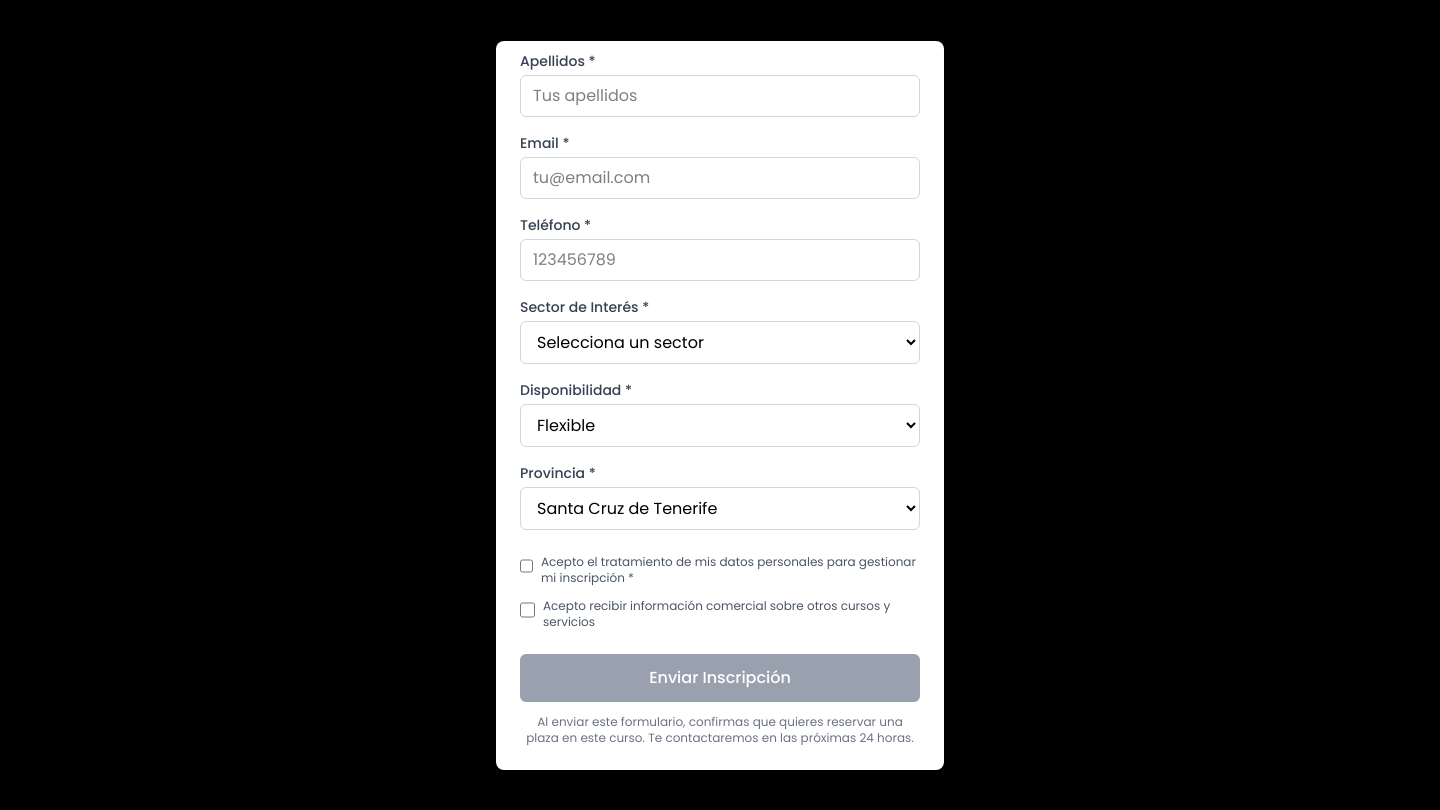
Test case: 📝 FORMULARIO MODAL - INTEGRACIÓN NUEVOS CURSOS › debe validar correctamente formulario para curso desempleados
(page scrolled)
Click the button "Enviar Inscripción".
click(720, 678)  # box [520, 654, 920, 702]
(page scrolled)
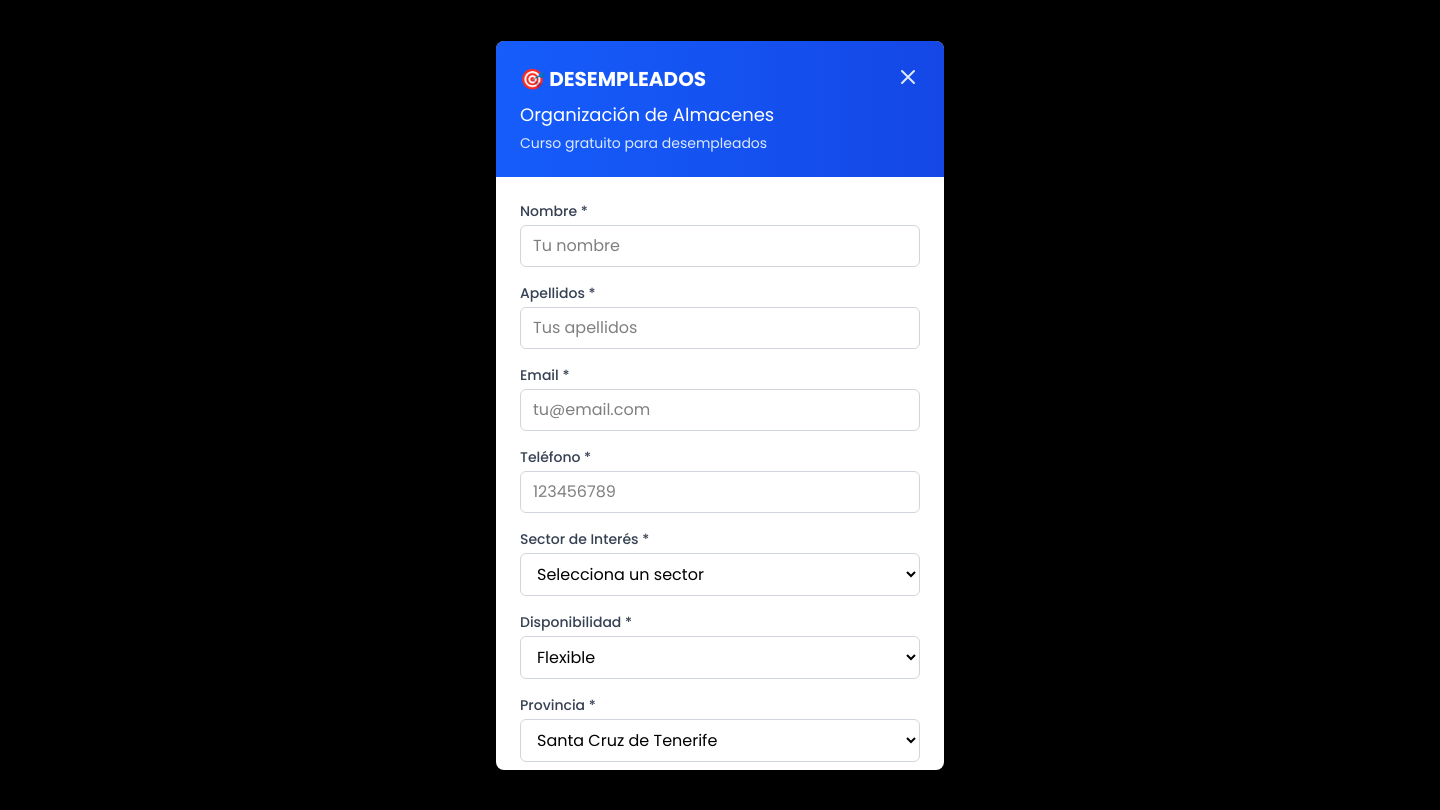
expect the heading "Organización de Almacenes" is shown: met, box [520, 100, 774, 128]
